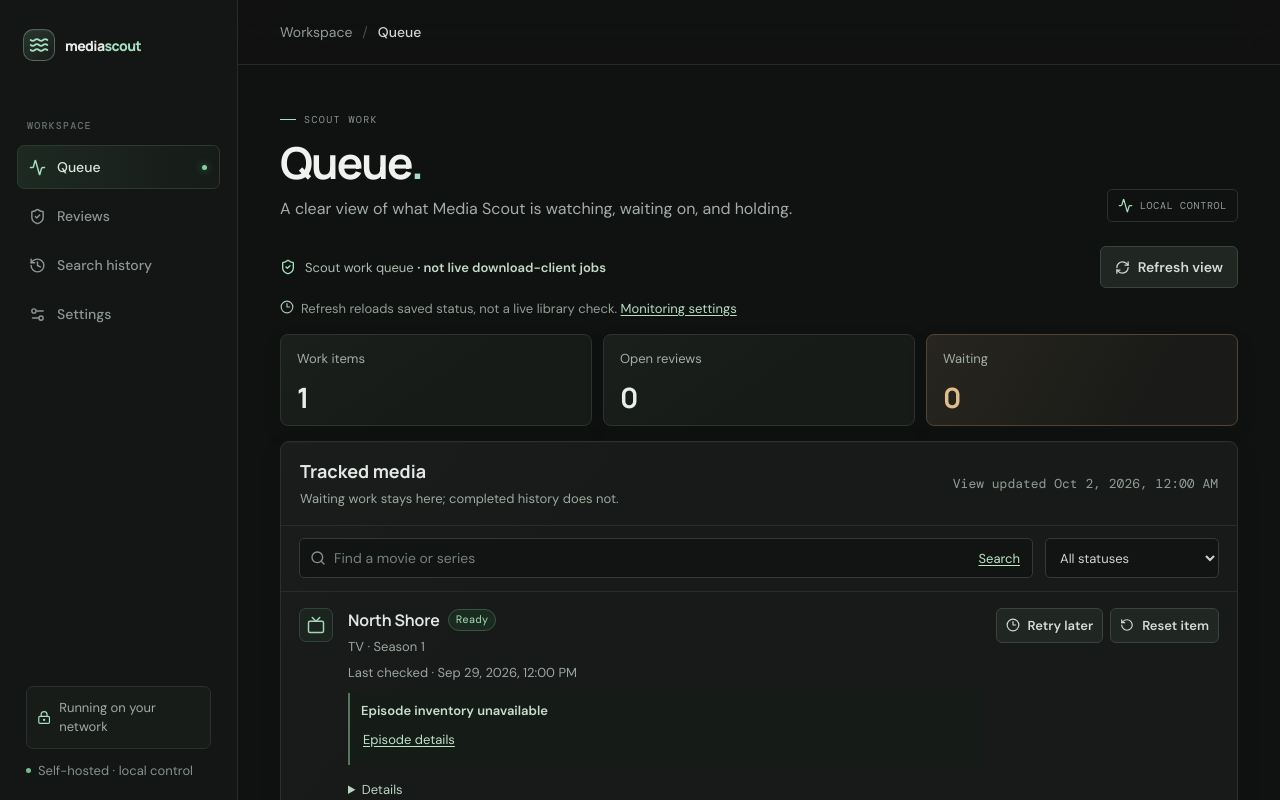
Test: operations dashboard › labels saved file evidence stale instead of presenting it as a current import
Expected: the heading "North Shore" is shown, [348, 608, 440, 632]
Click the button "Episode details". click: (409, 740)
box: [361, 726, 457, 756]
(page scrolled)
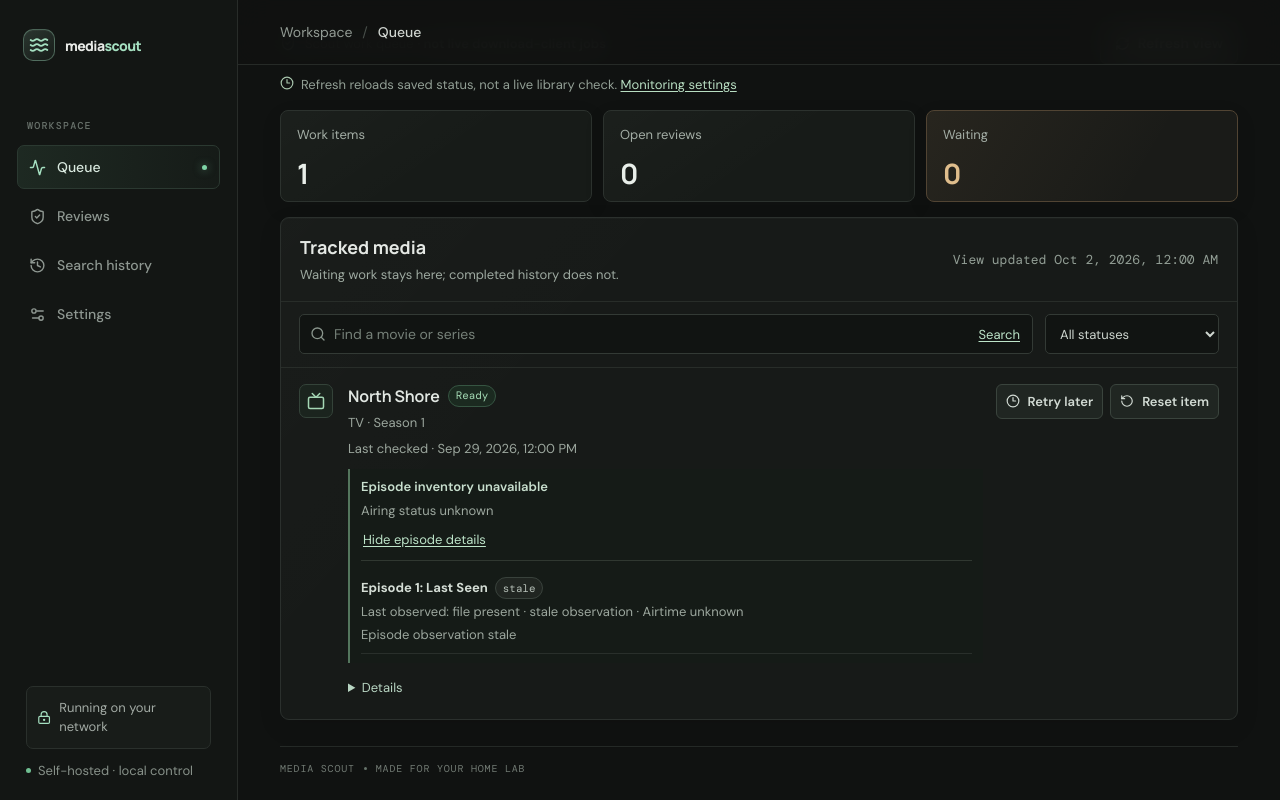
Now the text "Last observed: file present · stale observation" is shown, box [361, 603, 633, 620]
